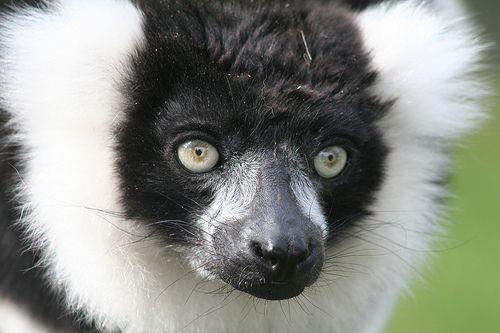cat: (2, 2, 498, 329)
